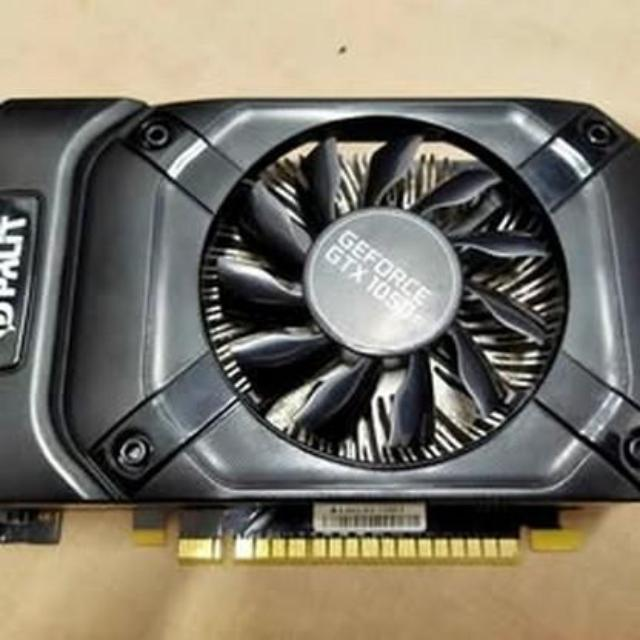GPU: (0, 92, 640, 570)
